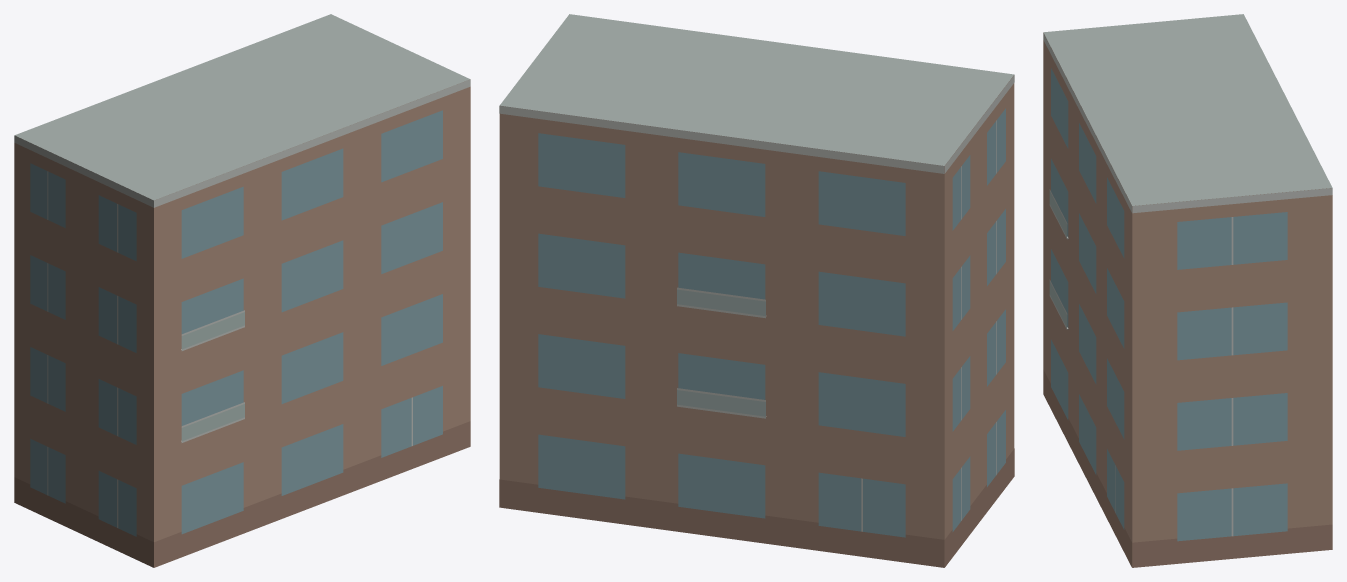
The model's file is residential-d09dc5ef-b640-4ebc-80d0-8849473112a2.glb.
The picture shows the model from 3 angles, left to right: view 1: azimuth 30°, elevation 25°; view 2: azimuth 150°, elevation 25°; view 3: azimuth 270°, elevation 25°; orthographic projection. The views are drawn at different scales.
Visible parts, largest first — view 1: residential-d09dc5ef-b640-4ebc-80d0-8849473112a2.tmp; view 2: residential-d09dc5ef-b640-4ebc-80d0-8849473112a2.tmp; view 3: residential-d09dc5ef-b640-4ebc-80d0-8849473112a2.tmp.
Boxes of the visible parts, x1,y1,x2,y2 form: residential-d09dc5ef-b640-4ebc-80d0-8849473112a2.tmp: (14,14,470,567); residential-d09dc5ef-b640-4ebc-80d0-8849473112a2.tmp: (499,14,1014,567); residential-d09dc5ef-b640-4ebc-80d0-8849473112a2.tmp: (1043,14,1332,567).
Size of the model in its own units: 13.89 by 12.2 by 8.85.
